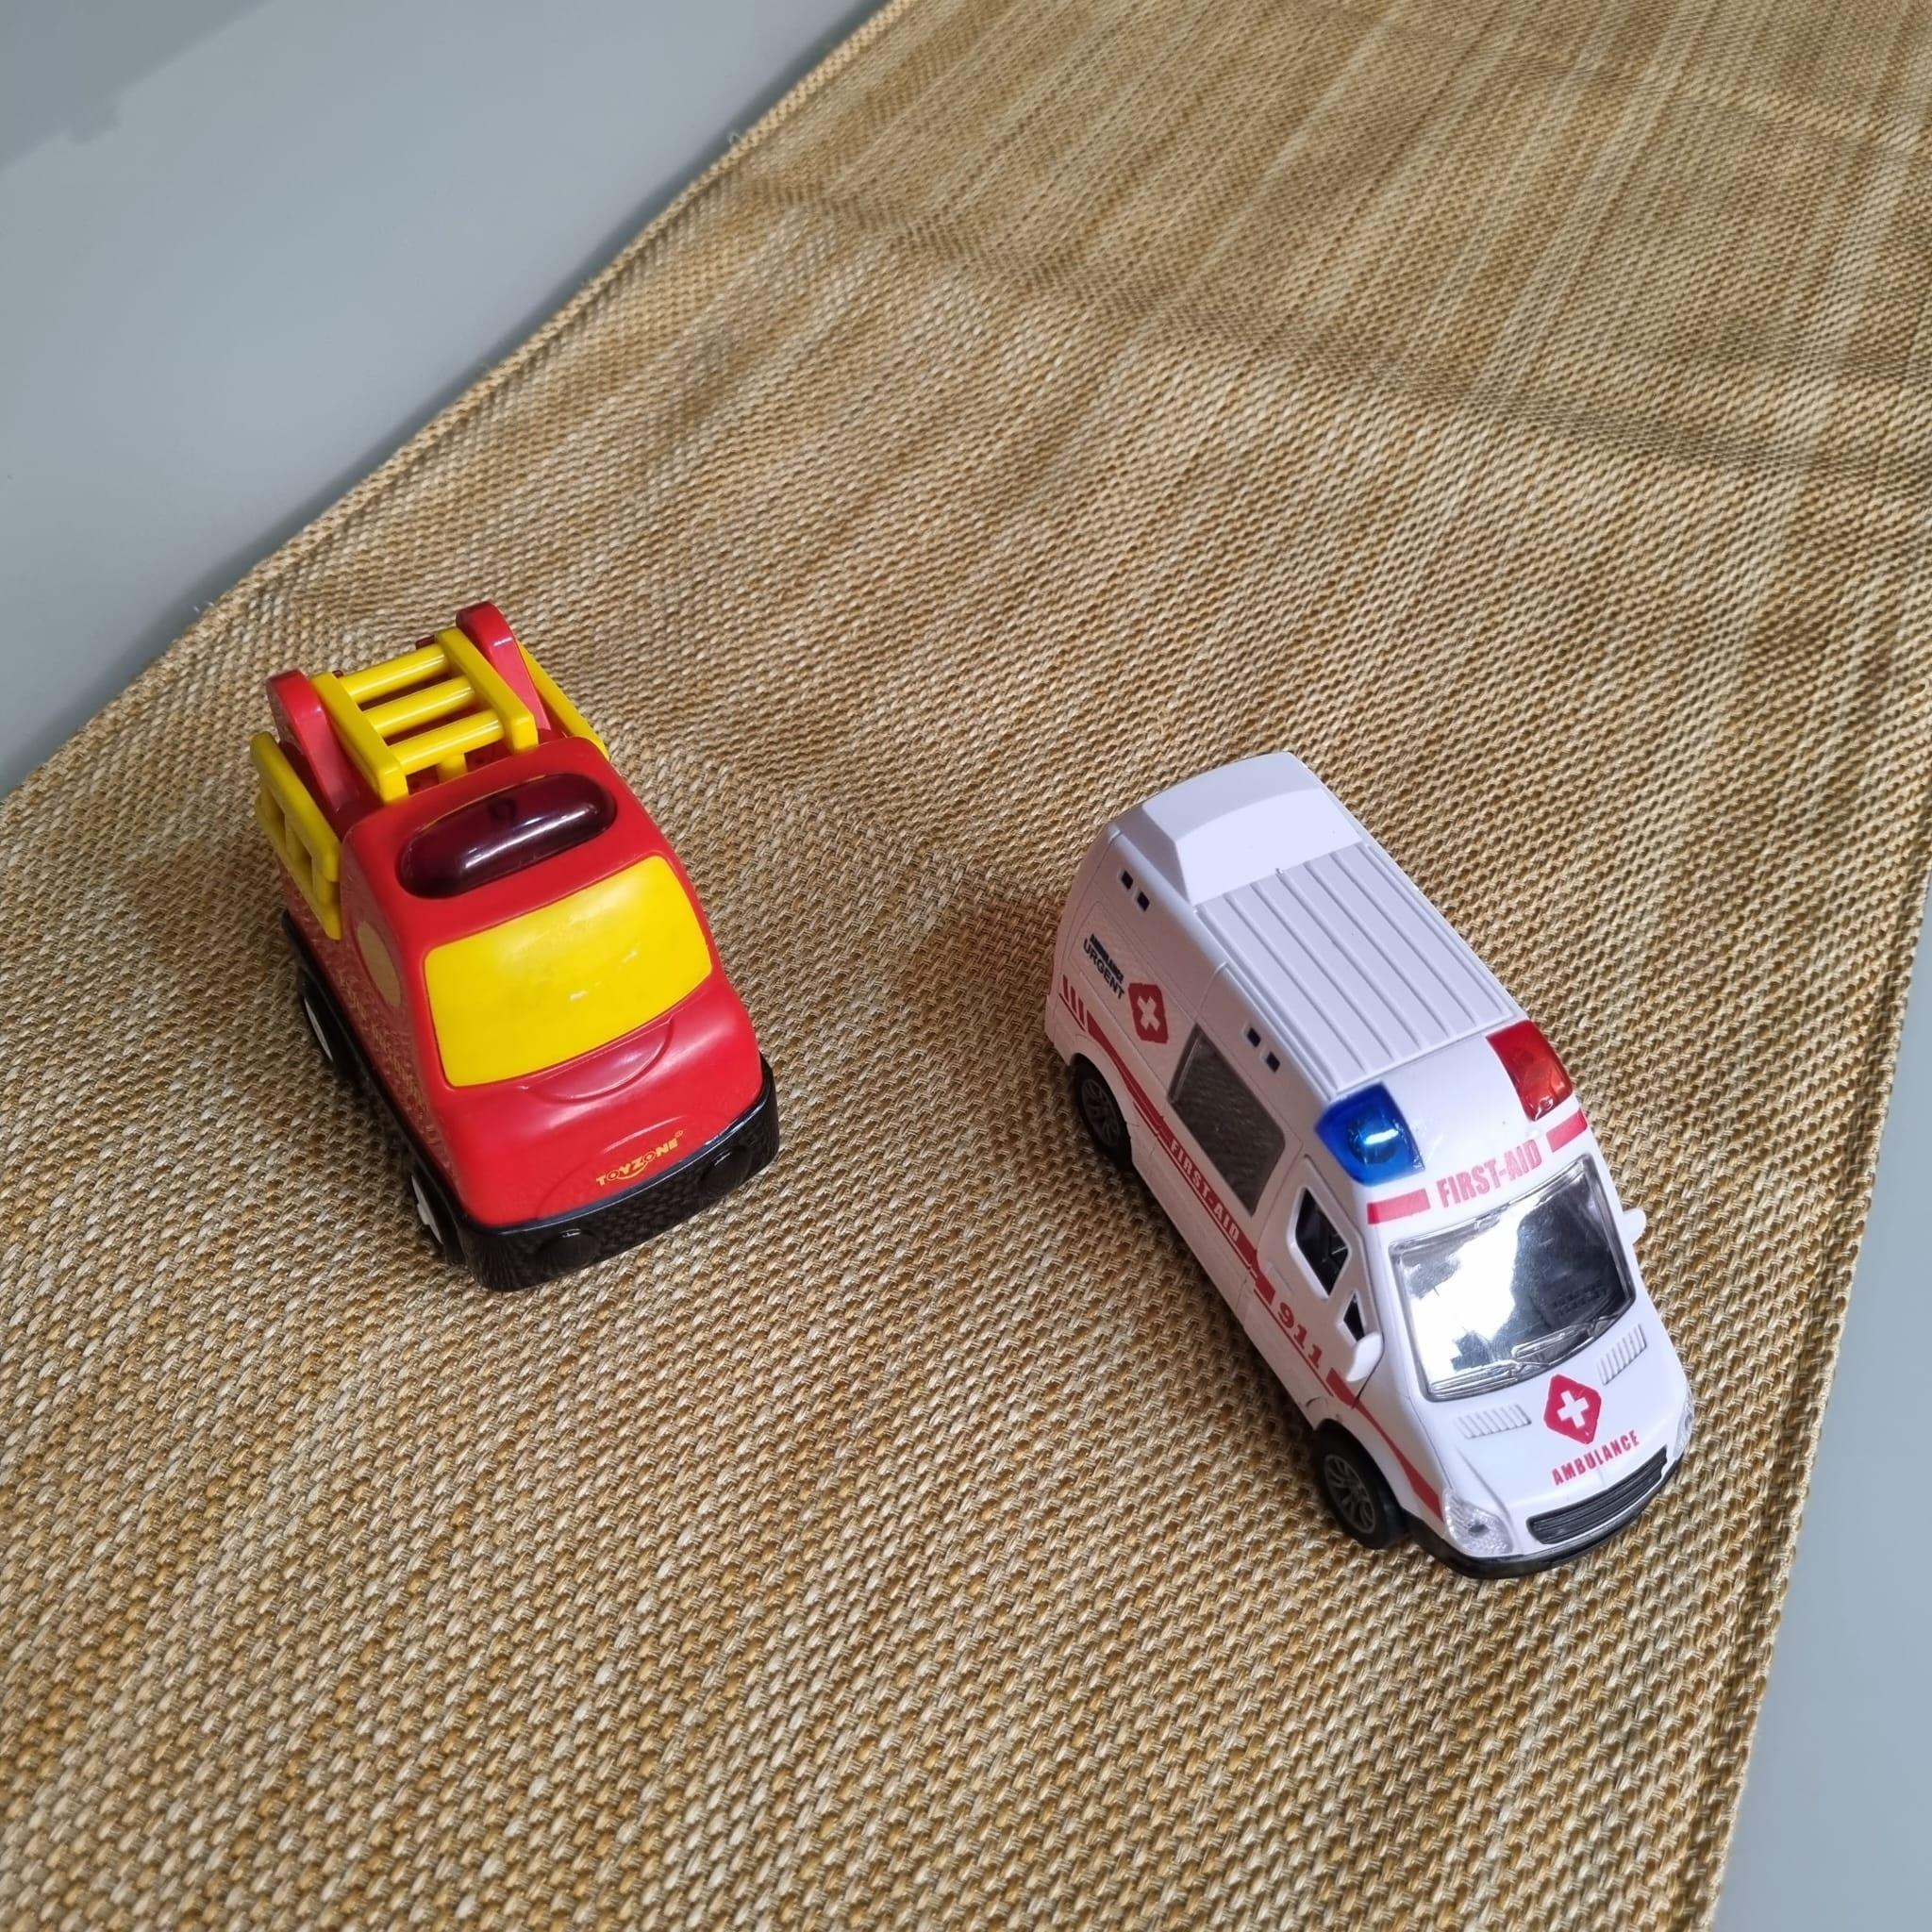ambulance_off: (1037, 755, 1702, 1594)
firetruck_off: (257, 594, 777, 1307)
